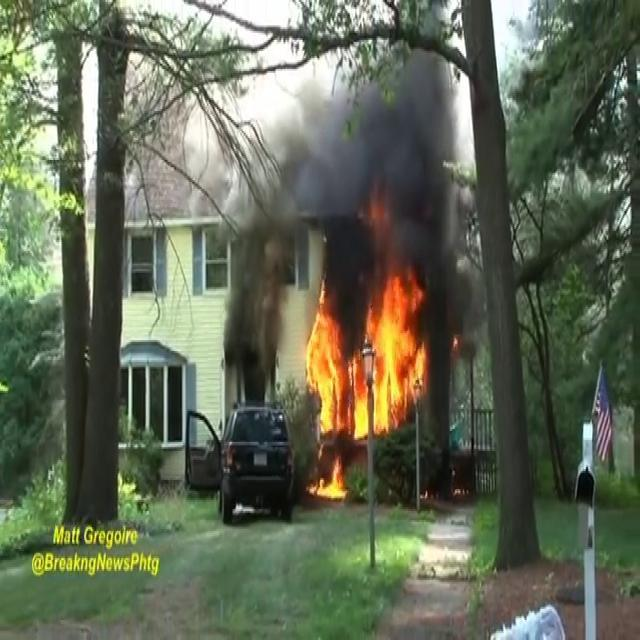Fire: (300, 268, 432, 468)
Smoke: (224, 30, 476, 345)
